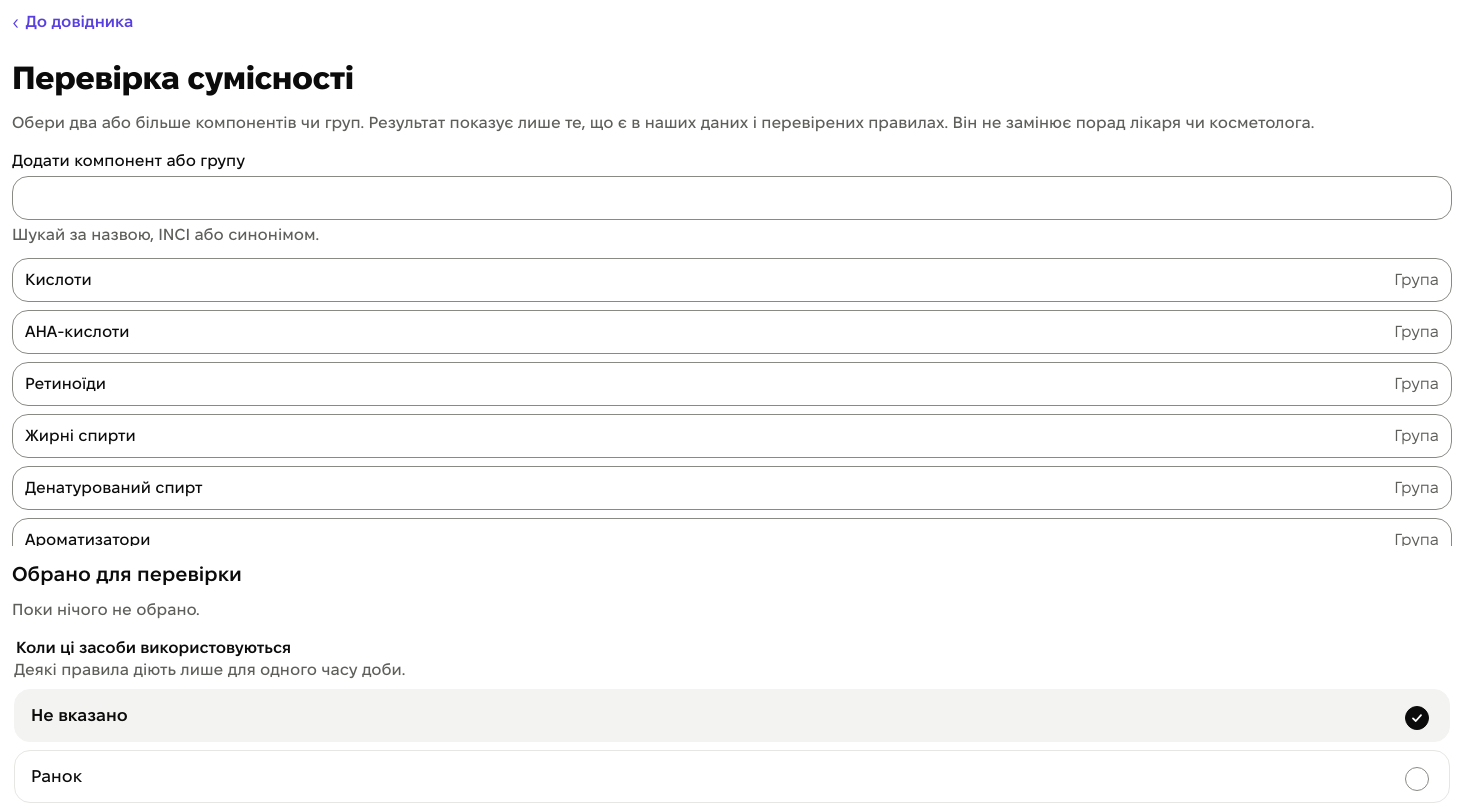
Scenario: CompatCheckerPage: the screen › searches components and groups by name, INCI and synonym
The image size is (1464, 810).
Type "vitamin c" into the search field labelled "Додати компонент або групу" at (732, 198), box [12,176,1452,220]
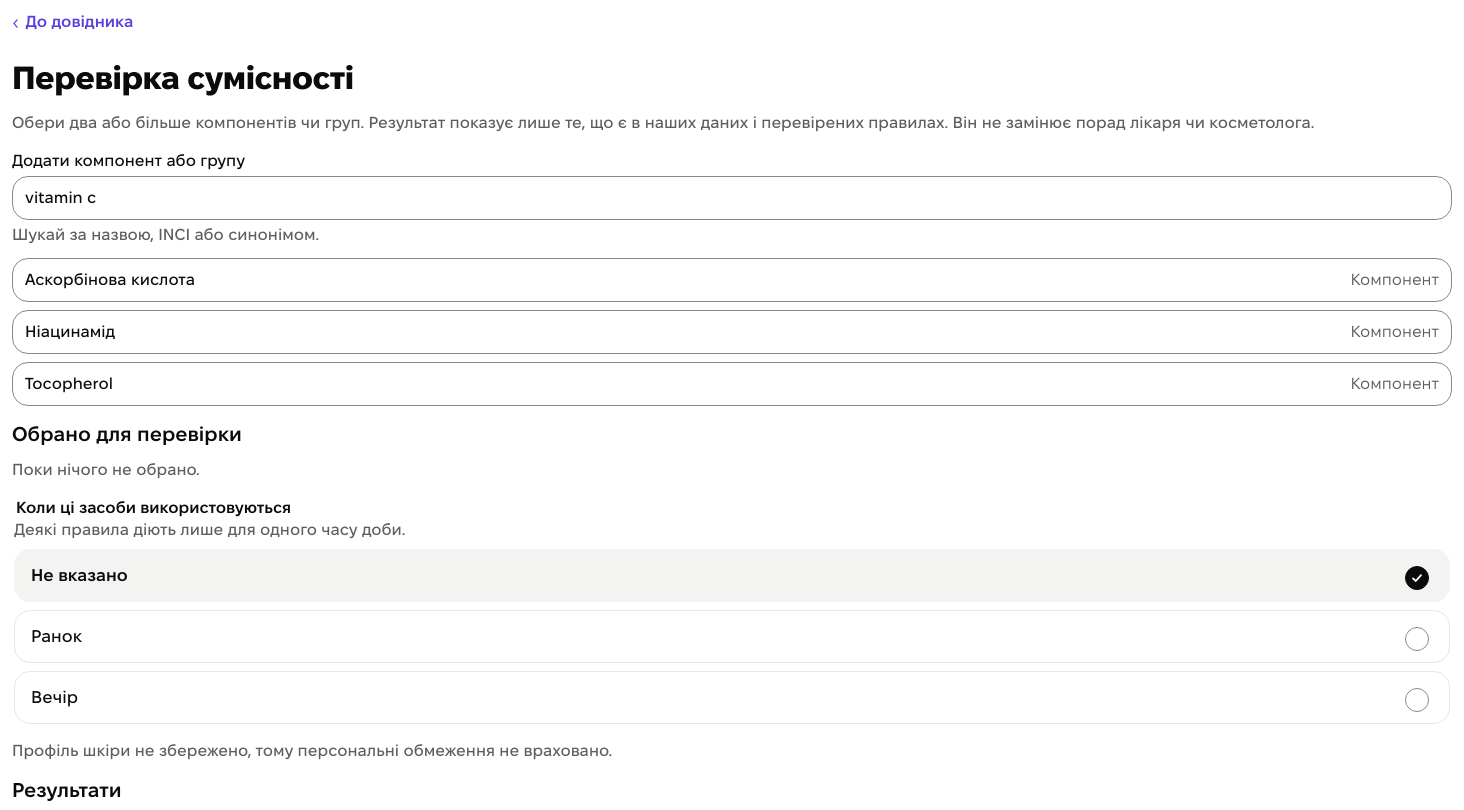
Result: the button "Аскорбінова кислота Компонент" is shown at [12,258,1452,302]
Replace the text in the search field labelled "Додати компонент або групу" with "qqqq" at (732, 198), box [12,176,1452,220]
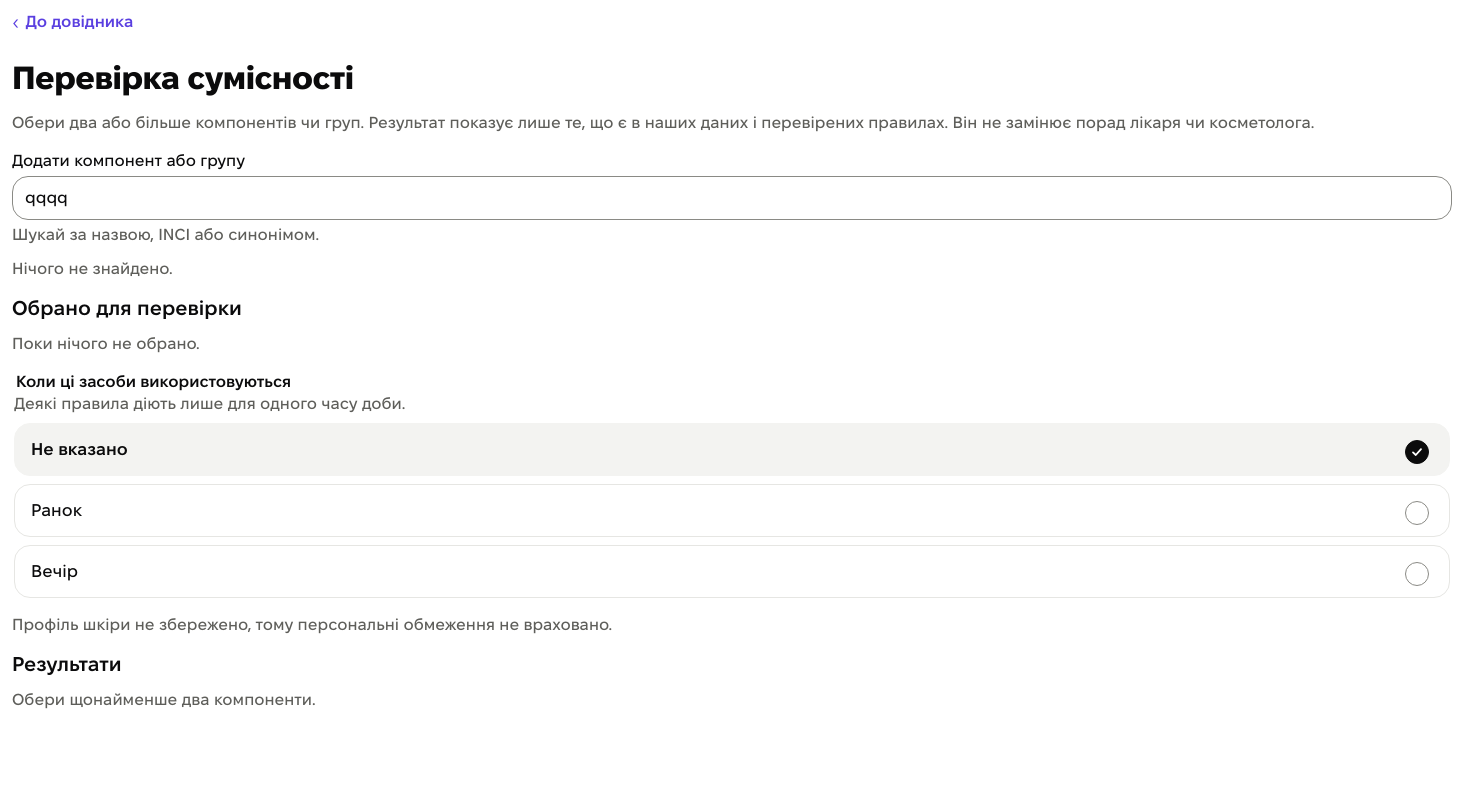
Result: the text "Нічого не знайдено." is shown at [12,260,173,277]
